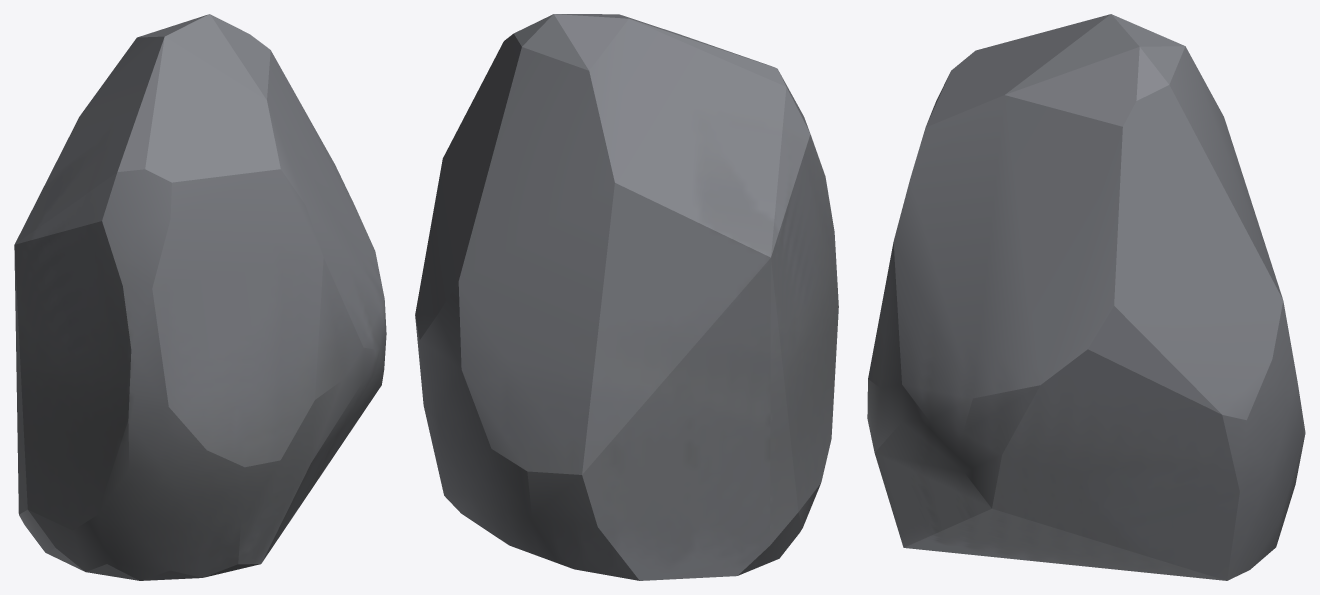
Rendered from Rock_3.fbx.
3 views of the same model, side by side, from view 1: azimuth 30°, elevation 25°; view 2: azimuth 150°, elevation 25°; view 3: azimuth 270°, elevation 25° (orthographic). The views are drawn at different scales.
Parts seen in each view (by area): view 1: SmallRock2; view 2: SmallRock2; view 3: SmallRock2.
Boxes of the visible parts, left/top/right/bottom form: SmallRock2: left=14, top=14, right=386, bottom=580; SmallRock2: left=415, top=14, right=838, bottom=580; SmallRock2: left=867, top=14, right=1305, bottom=580.
Size of the model in its own units: 23.81 by 33.24 by 24.1.
